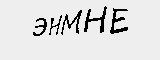Е: (109, 5, 133, 35)
М: (60, 7, 83, 38)
Н: (83, 4, 108, 38), (47, 15, 62, 40)
Э: (32, 15, 48, 37)
